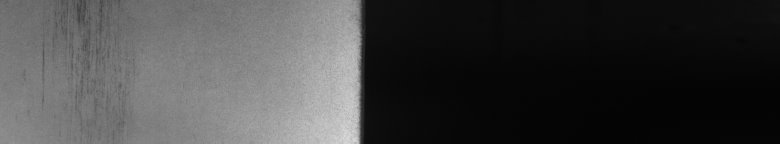ka: (42, 4, 122, 88)
